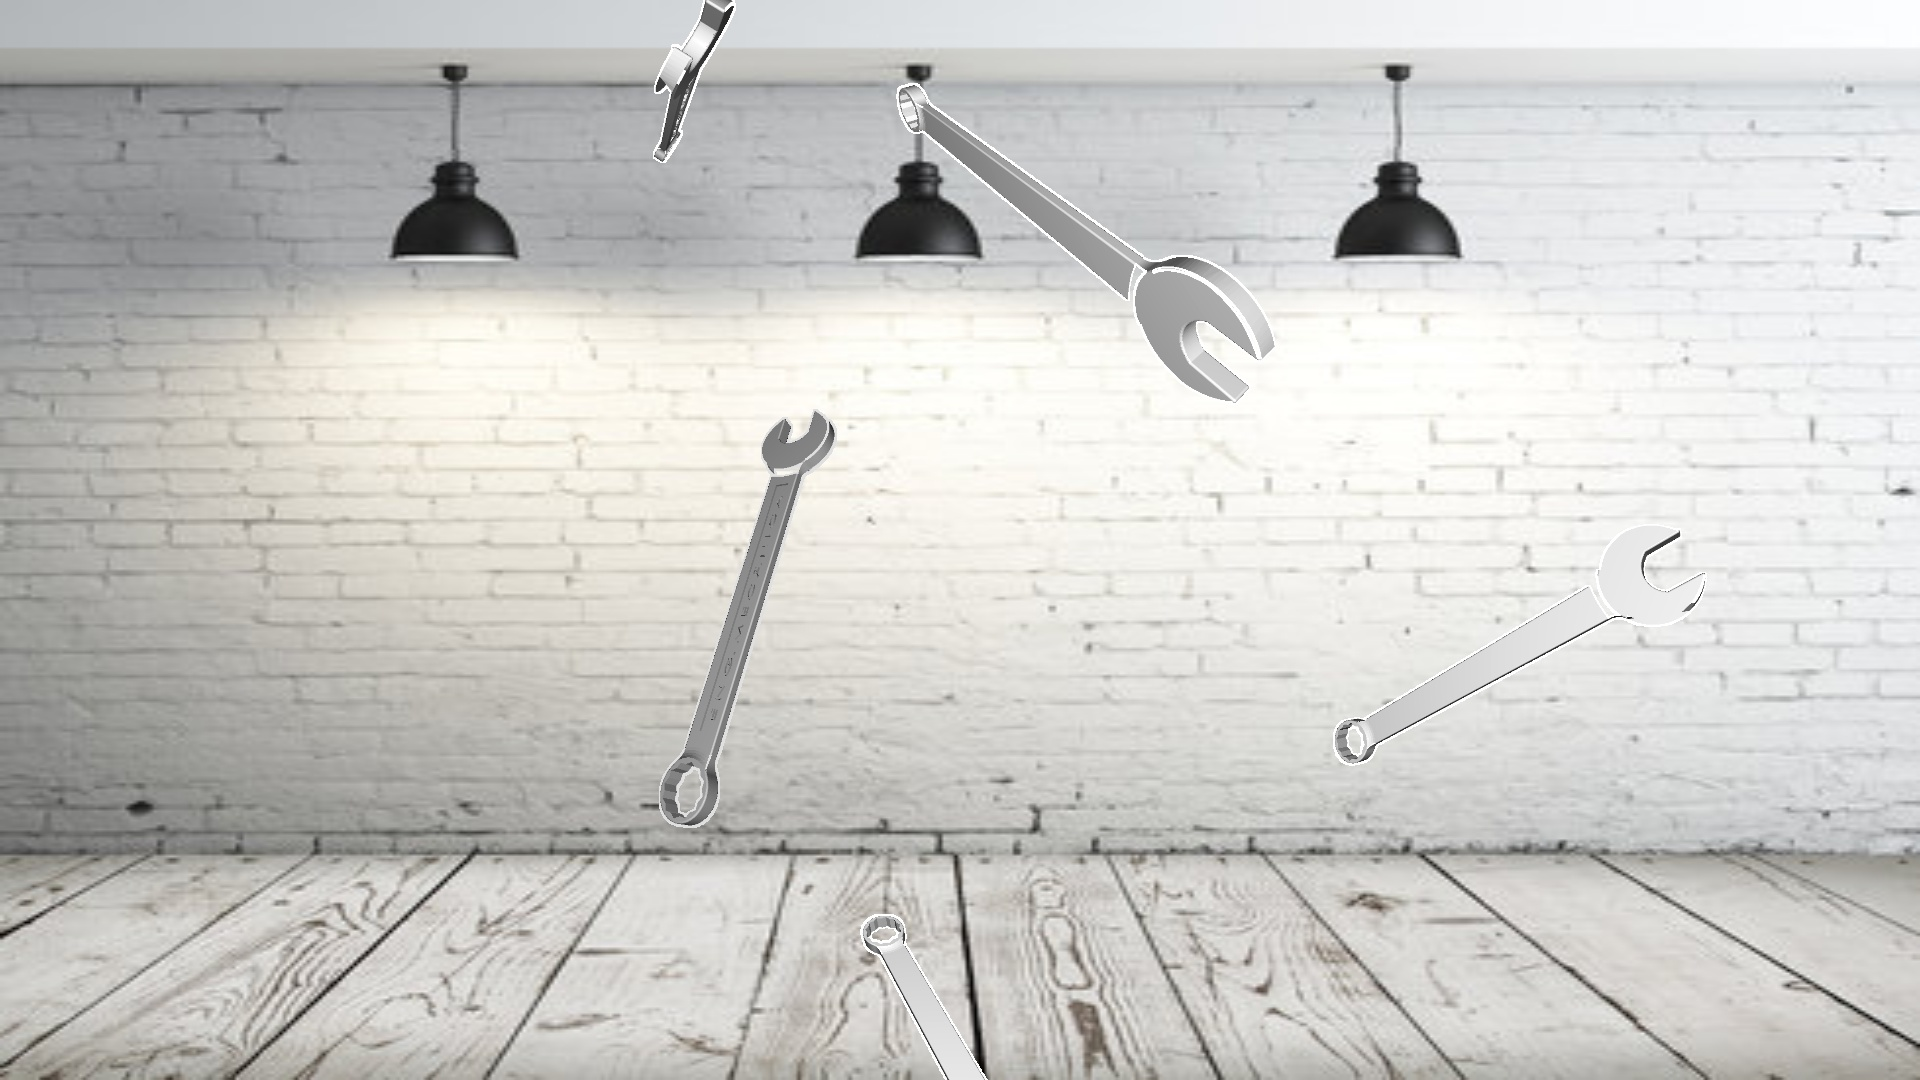Mixed Key: (895, 83, 1275, 404), (1333, 524, 1706, 765), (659, 409, 836, 827), (860, 914, 986, 1079), (653, 0, 735, 162)
